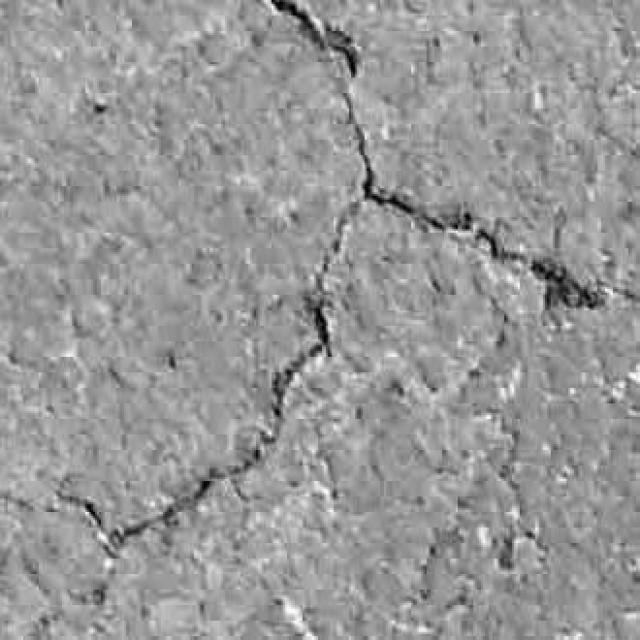crack: (342, 90, 638, 310), (107, 342, 325, 556), (268, 0, 360, 77), (312, 204, 357, 353), (303, 275, 330, 355)
